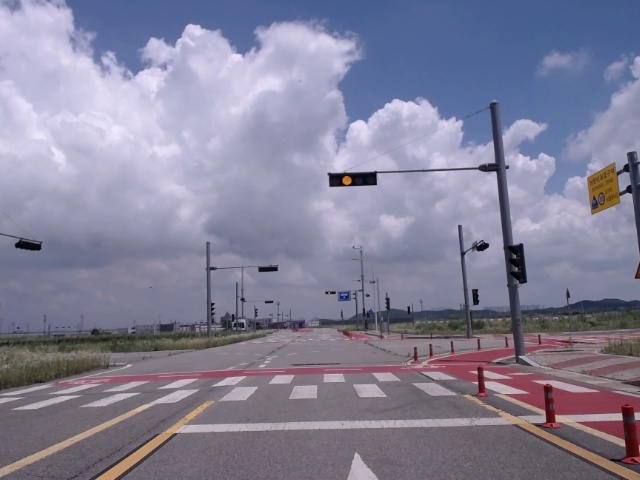orange_4: (329, 172, 379, 187)
